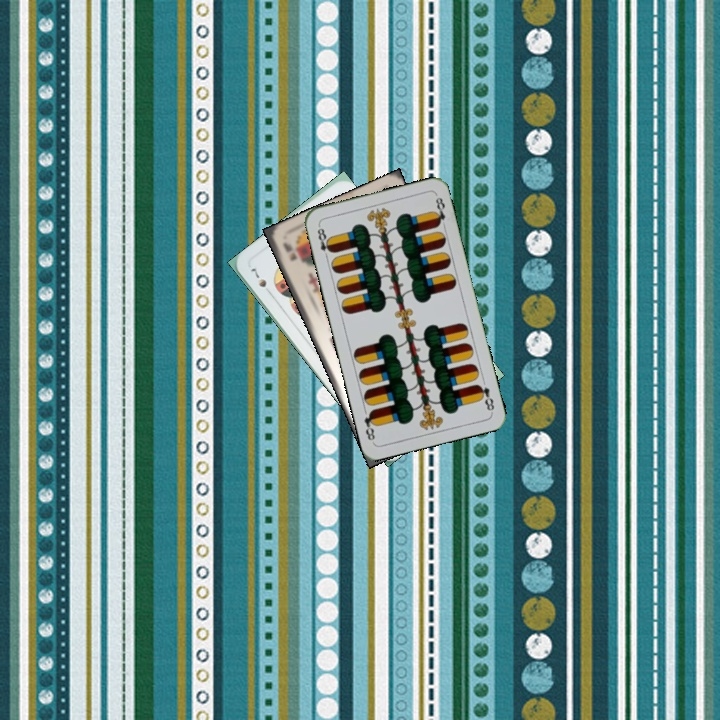E8: (313, 221, 335, 261), (473, 380, 497, 414)
S7: (247, 264, 275, 298)
SK: (279, 238, 300, 263)
